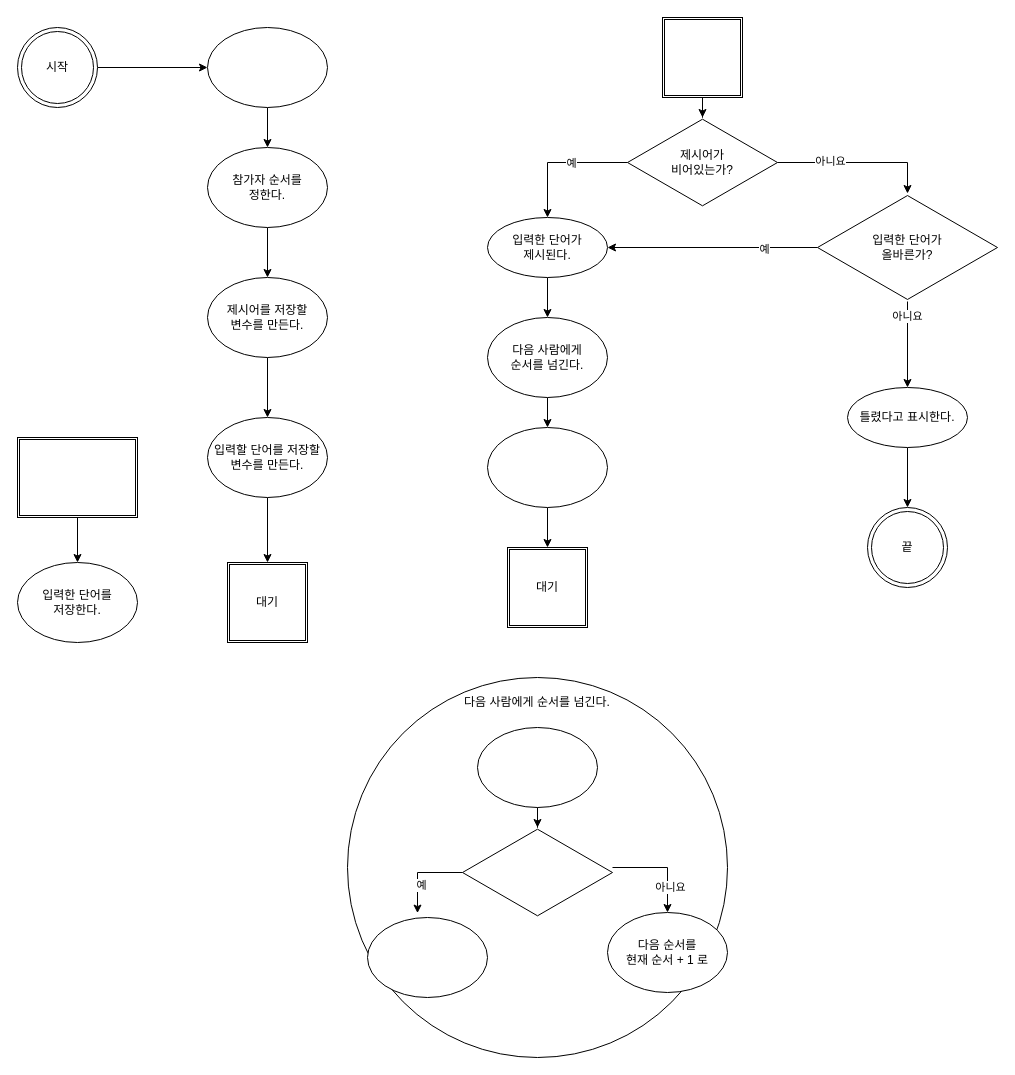
Image size: 1015x1075. Some labels were removed from this diagram. The shapes that lost their labels are listed below. From the top down, each one's centre as x and y in pixels, then its label:
the point at 267,67: 몇명이 참여할지 선택한다.
the point at 702,57: 입력버튼 클릭
the point at 77,477: 단어입력 (input 이벤트)
the point at 547,467: 입력창을 비우고 커서를 둔다.
the point at 537,767: 현재 순서를 파악한다.
the point at 537,872: 현재 순서에 1을 더한 값이 number보다 큰가?
the point at 427,957: 다음 순서를 1로
